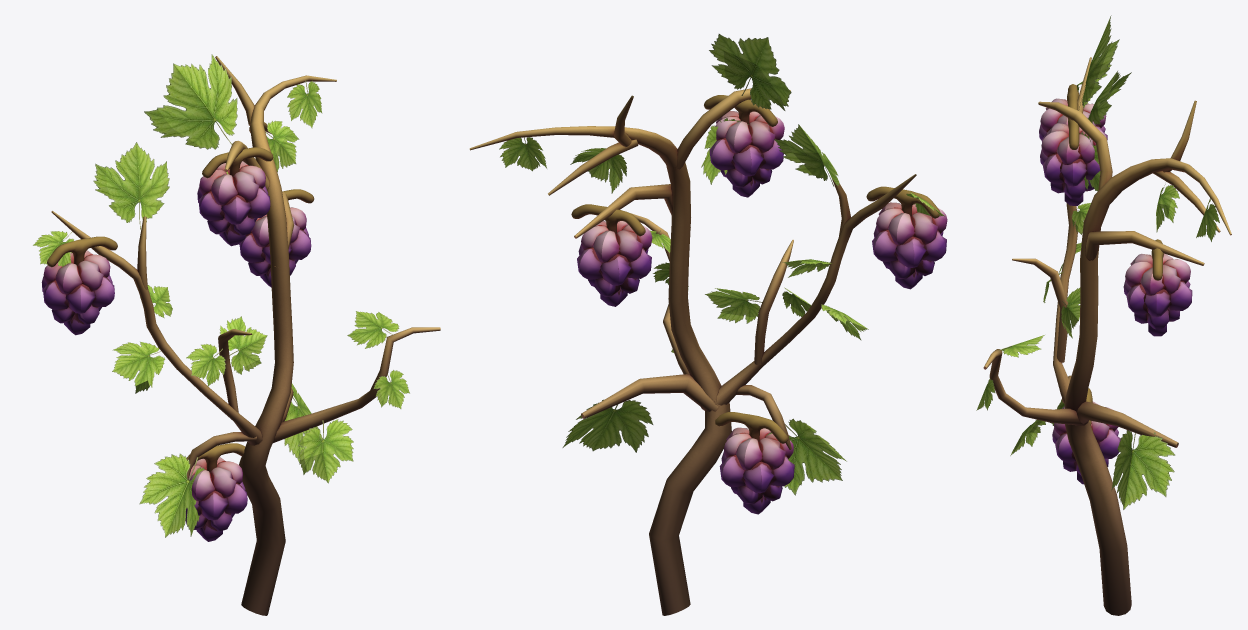
Rendered from Grape_Stage_3.fbx.
3 renders of one model, left to right at view 1: azimuth 30°, elevation 25°; view 2: azimuth 150°, elevation 25°; view 3: azimuth 270°, elevation 25°, orthographic. The views are drawn at different scales.
Parts seen in each view (by area): view 1: Sphere.002; view 2: Sphere.002; view 3: Sphere.002.
Part boxes in pixels (x1=…): Sphere.002: x1=33, y1=54, x2=440, y2=615; Sphere.002: x1=469, y1=34, x2=947, y2=615; Sphere.002: x1=976, y1=15, x2=1231, y2=615.
Size of the model in its own units: 163 by 240 by 96.92.
3 materials, 3 textured.
